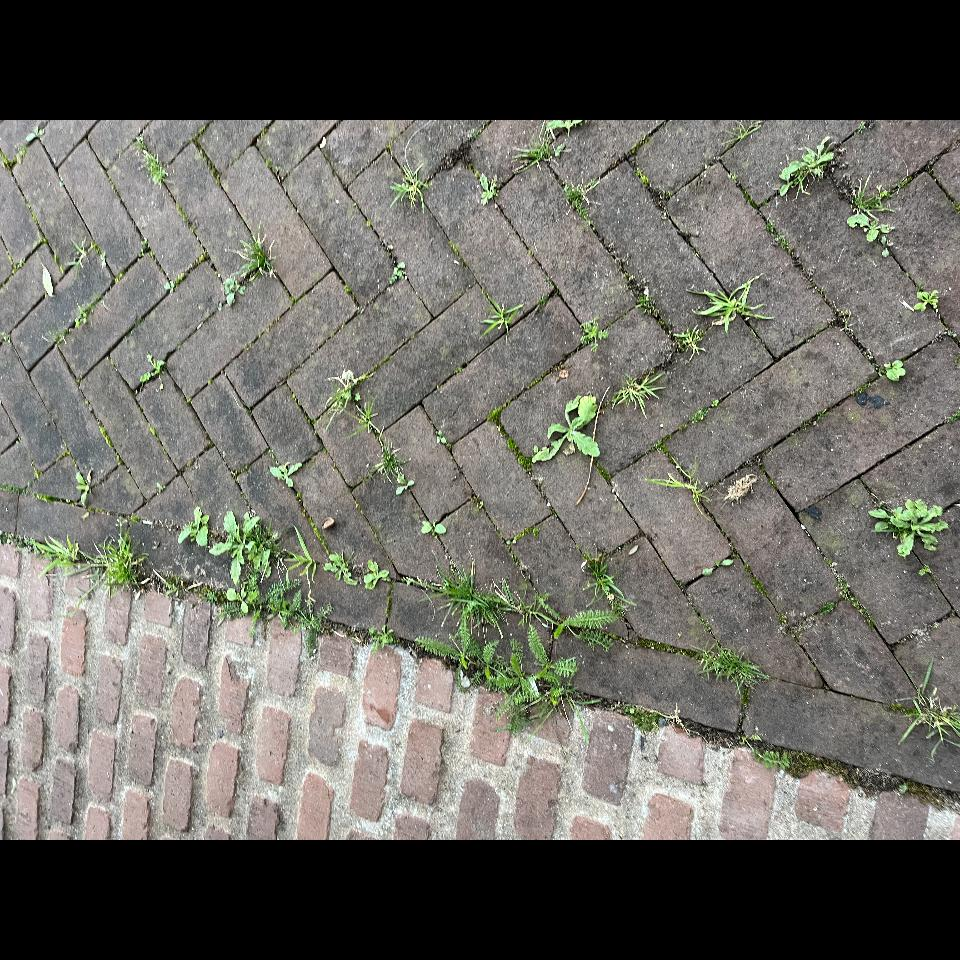weed: (103, 541, 211, 718), (191, 552, 275, 741), (346, 445, 470, 532), (256, 298, 333, 435), (208, 328, 263, 452), (375, 652, 444, 721), (509, 810, 564, 893), (245, 208, 314, 266), (669, 633, 720, 704), (644, 899, 704, 955), (424, 730, 467, 785), (263, 153, 304, 209), (561, 348, 605, 395), (631, 510, 676, 550), (655, 253, 703, 289), (501, 600, 540, 643), (620, 683, 661, 718), (572, 186, 603, 223), (255, 443, 286, 479), (482, 792, 514, 825), (353, 389, 377, 423), (251, 483, 280, 509), (457, 260, 485, 286), (524, 756, 553, 778), (535, 343, 563, 365), (635, 600, 665, 620), (334, 196, 368, 211), (556, 509, 578, 527), (547, 284, 566, 304), (305, 541, 320, 566), (658, 525, 662, 528)
